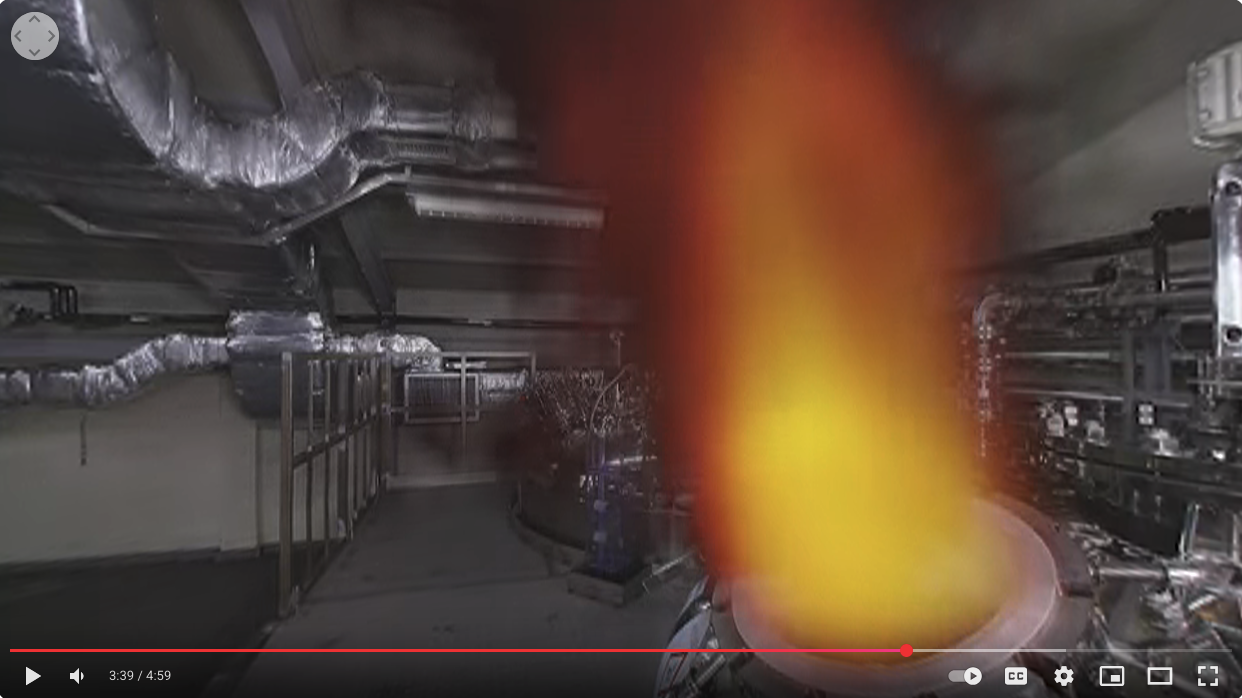fire: (621, 70, 1062, 649)
